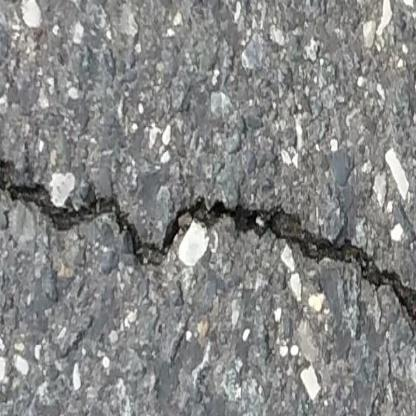Cracks: (0, 157, 416, 337)
